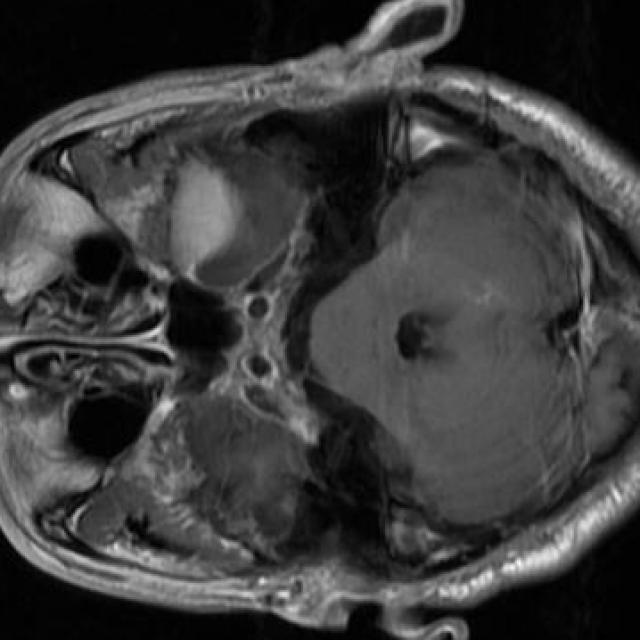meningioma: (171, 164, 237, 282)
